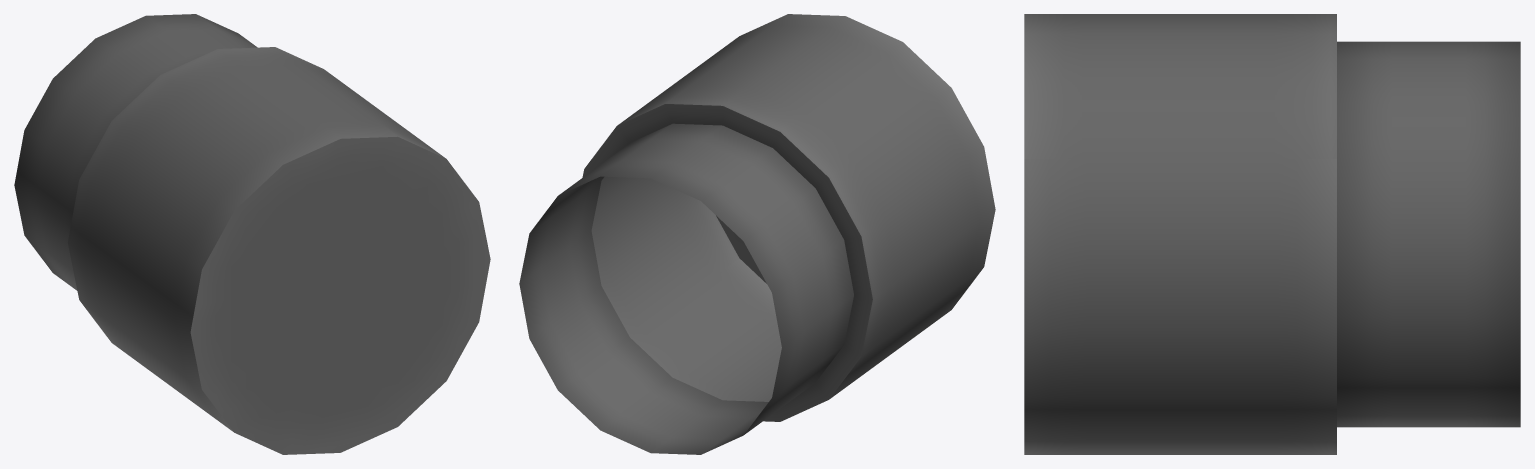
The model's file is Acamar_Solar_1_Base.obj.
3 renders of one model, left to right at view 1: azimuth 30°, elevation 25°; view 2: azimuth 150°, elevation 25°; view 3: azimuth 270°, elevation 25°, orthographic. The views are drawn at different scales.
Visible parts, largest first — view 1: Acamar_Solar_1_Base; view 2: Acamar_Solar_1_Base; view 3: Acamar_Solar_1_Base.
Part boxes in pixels (left/top/right/bottom): Acamar_Solar_1_Base: left=14, top=14, right=490, bottom=454; Acamar_Solar_1_Base: left=519, top=14, right=995, bottom=454; Acamar_Solar_1_Base: left=1024, top=14, right=1520, bottom=454.
Bounding box in the file's own units: 0.12 × 0.12 × 0.135.
